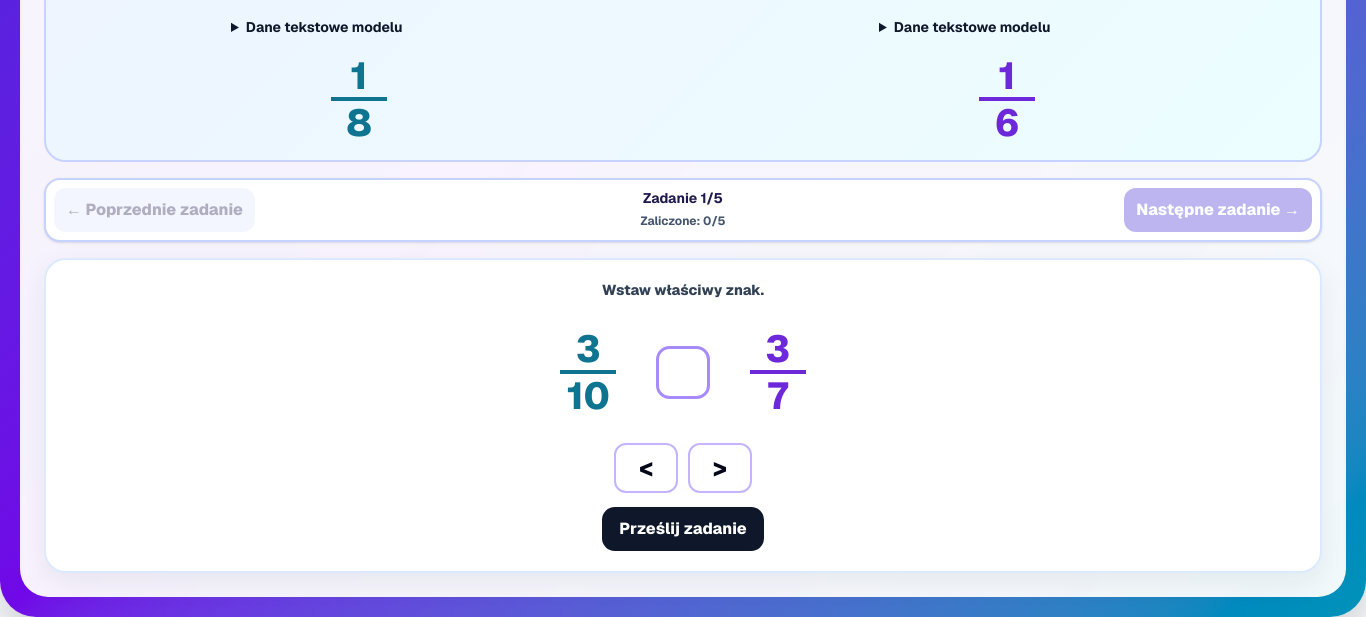
FractionComparisonLessonModel — modele, pionowy zapis, dotyk i diagnostyka › najpierw wyjaśnia na modelu 1/8 i 1/6, a potem prowadzi serię znaków
(page scrolled)
Click the button named "Wstaw znak <".
click(646, 468)  # box [614,443,678,492]
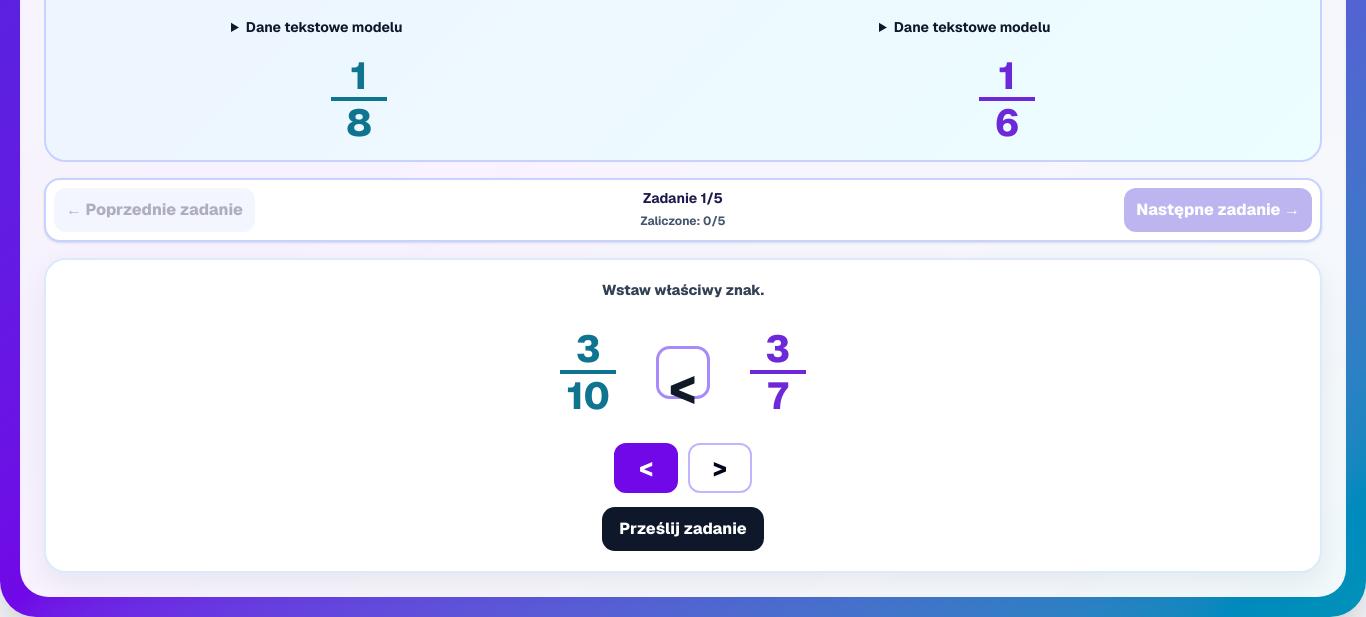
Click the button "Prześlij zadanie".
click(683, 529)  # box [602,507,764,551]
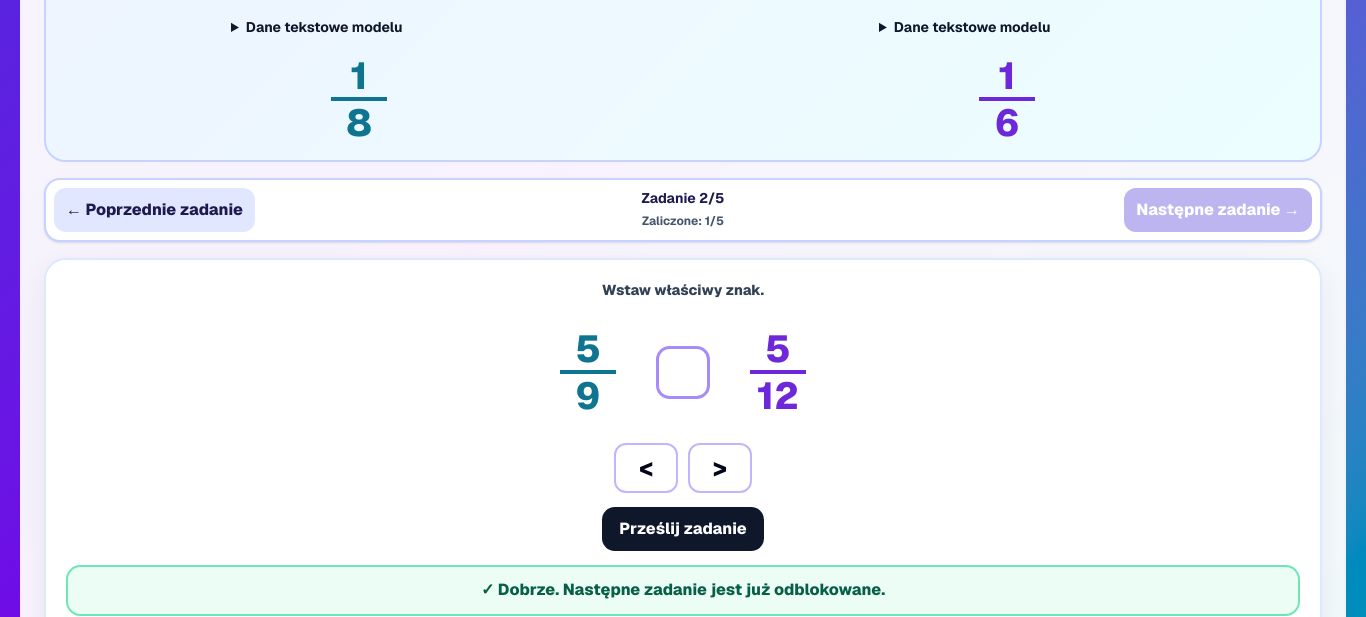
Now the message shows "Następne zadanie", box [498,580,885,600]
